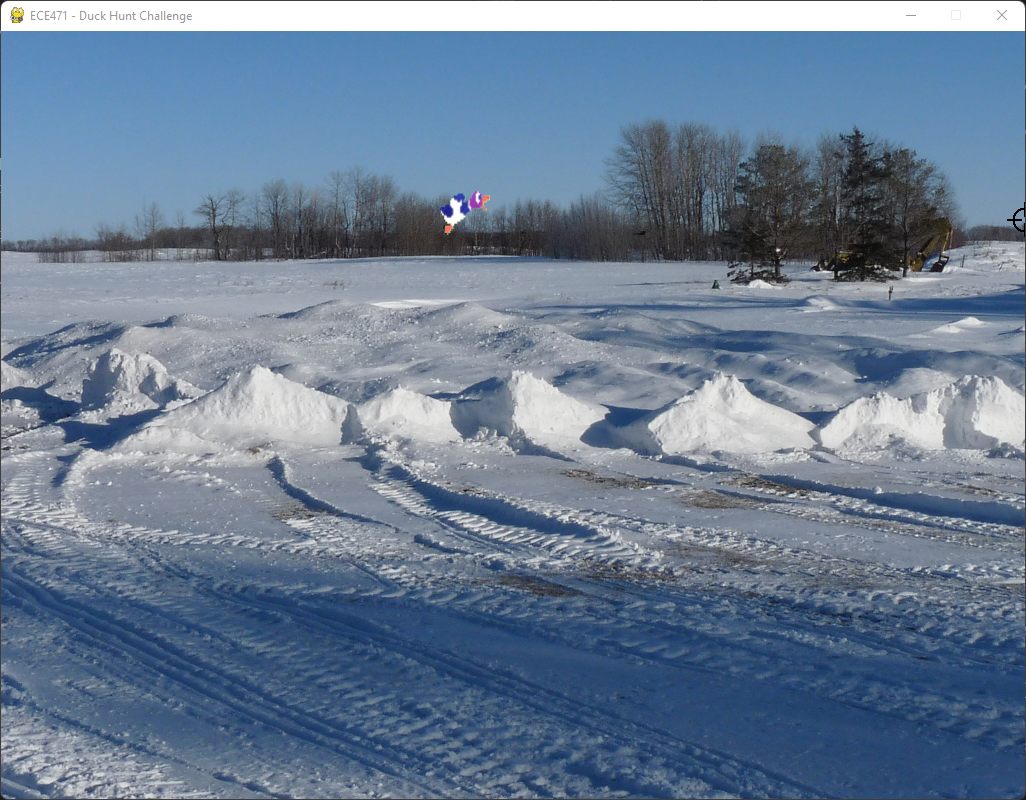blue: (429, 180, 495, 240)
